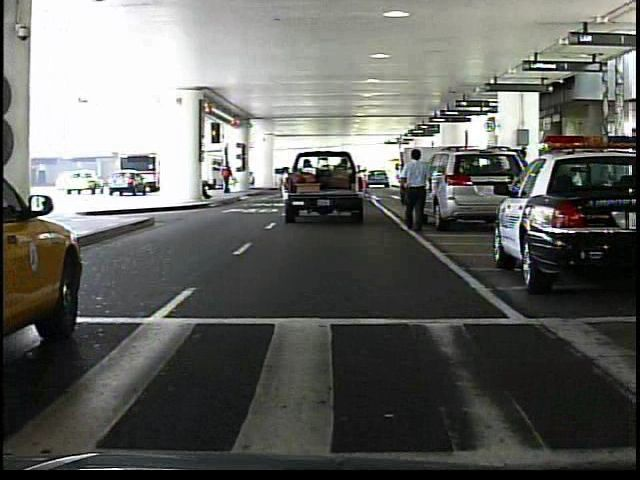person: (396, 144, 438, 233), (220, 160, 237, 197)
